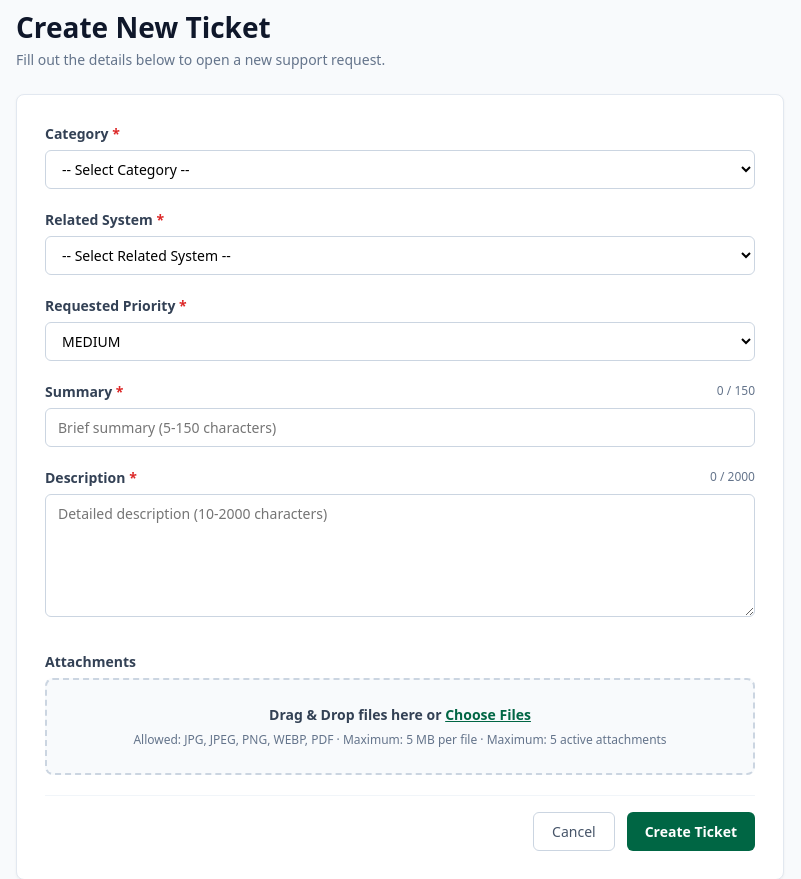
Test: Create Ticket Screen Tests (Lab 2 — Section 12) › shows validation errors when submitting empty form
This screenshot has width=801, height=879.
Click the button "Create Ticket" at (691, 831), box left=627, top=812, right=755, bottom=851
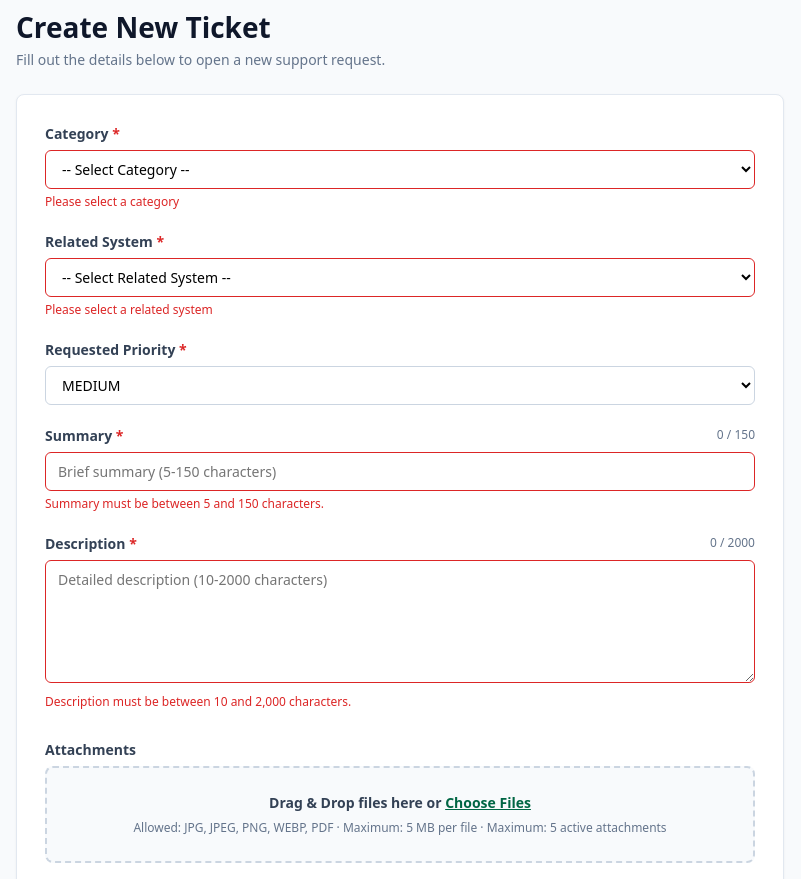
expect the text "Please select a category" is shown: met, box left=45, top=193, right=179, bottom=210
expect the text "Please select a related system" is shown: met, box left=45, top=301, right=213, bottom=318
expect the text "Summary must be between 5 and 150 characters." is shown: met, box left=45, top=495, right=324, bottom=512
